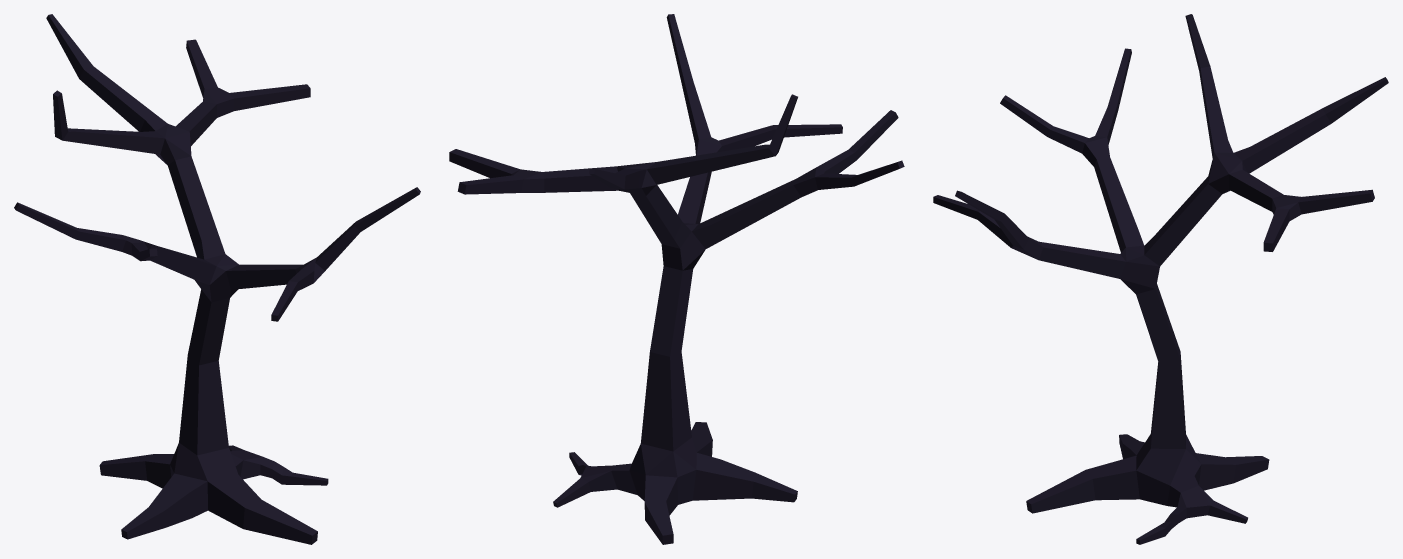
File: Tree_Dead_01.fbx
3 renders of one model, left to right at view 1: azimuth 30°, elevation 25°; view 2: azimuth 150°, elevation 25°; view 3: azimuth 270°, elevation 25°, orthographic. The views are drawn at different scales.
Visible parts, largest first — view 1: Tree_Dead_01; view 2: Tree_Dead_01; view 3: Tree_Dead_01.
Boxes of the visible parts, x1,y1,x2,y2 form: Tree_Dead_01: [14, 14, 420, 544]; Tree_Dead_01: [449, 14, 904, 544]; Tree_Dead_01: [933, 14, 1388, 544].
Size of the model in its own units: 403 by 455 by 449.
